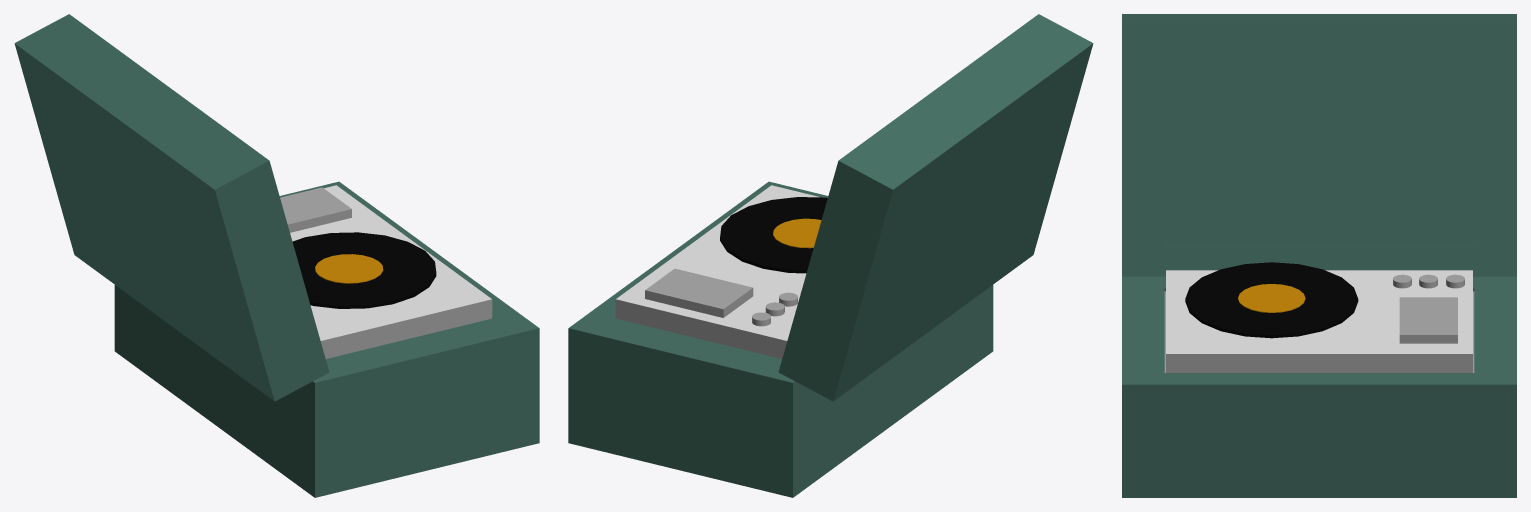
The model's file is Vinyl.fbx.
The picture shows the model from 3 angles, left to right: view 1: azimuth 30°, elevation 25°; view 2: azimuth 150°, elevation 25°; view 3: azimuth 270°, elevation 25°; orthographic projection.
Visible parts, largest first — view 1: pCube4, pCube1, pCube2, pCylinder1, pCube5, pCylinder2; view 2: pCube4, pCube1, pCube2, pCylinder1, pCube5, pCylinder2; view 3: pCube4, pCube1, pCube2, pCylinder1, pCube5, pCylinder2.
Boxes of the visible parts, x1=… form: pCube4: x1=14, y1=14, x2=329, y2=401; pCube1: x1=114, y1=181, x2=539, y2=497; pCube2: x1=290, y1=185, x2=492, y2=358; pCylinder1: x1=292, y1=232, x2=436, y2=308; pCube5: x1=280, y1=187, x2=351, y2=232; pCylinder2: x1=315, y1=254, x2=383, y2=283; pCube4: x1=778, y1=14, x2=1093, y2=401; pCube1: x1=568, y1=181, x2=993, y2=497; pCube2: x1=615, y1=185, x2=819, y2=358; pCylinder1: x1=720, y1=197, x2=827, y2=273; pCube5: x1=645, y1=268, x2=753, y2=317; pCylinder2: x1=773, y1=218, x2=821, y2=248; pCube4: x1=1122, y1=14, x2=1516, y2=276; pCube1: x1=1122, y1=276, x2=1516, y2=497; pCube2: x1=1164, y1=270, x2=1474, y2=372; pCylinder1: x1=1185, y1=262, x2=1358, y2=338; pCube5: x1=1399, y1=297, x2=1457, y2=343; pCylinder2: x1=1238, y1=284, x2=1305, y2=312.
Bounding box in the file's own units: 6.32 × 6.48 × 6.76.
